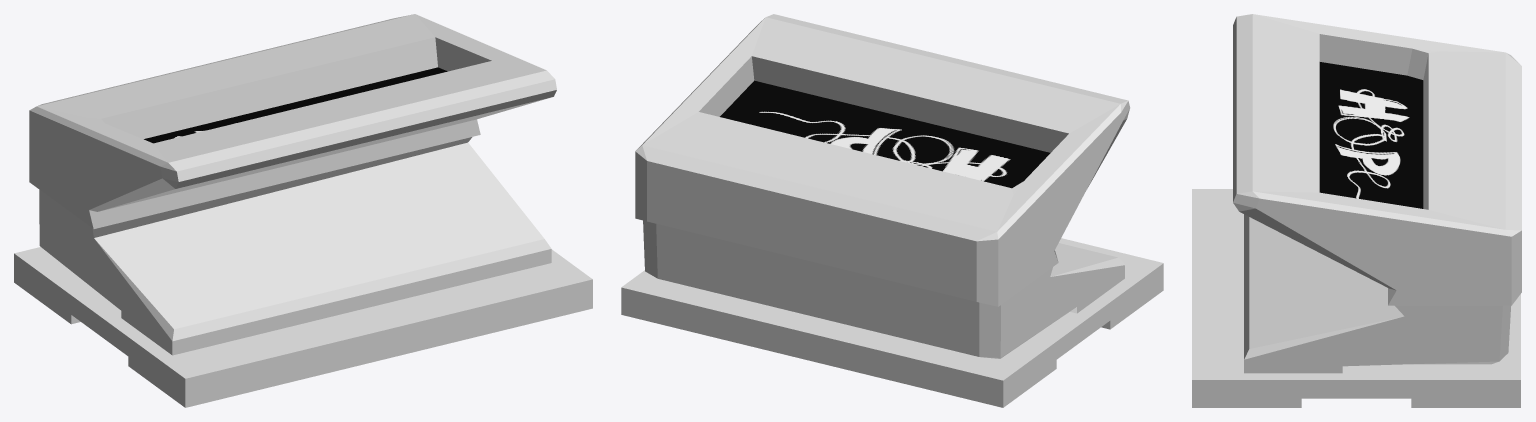
File: HolePuncher.fbx
3 views of the same model, side by side, from view 1: azimuth 30°, elevation 25°; view 2: azimuth 150°, elevation 25°; view 3: azimuth 270°, elevation 25° (orthographic). The views are drawn at different scales.
Visible parts, largest first — view 1: HolePuncher; view 2: HolePuncher; view 3: HolePuncher.
Part boxes in pixels (<box>): HolePuncher: <box>14,14,592,407</box>; HolePuncher: <box>621,14,1163,407</box>; HolePuncher: <box>1192,14,1521,407</box>.
Bounding box in the file's own units: 82.1 × 42.08 × 59.92.
